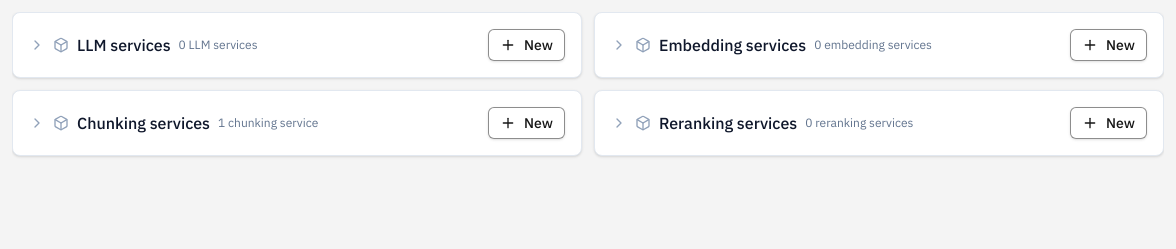
Scenario: ServicesPanel › expands the chunking subpanel and renders its rows
Click the button named "Chunking services" at point(297, 123), box [13,91,581,155]
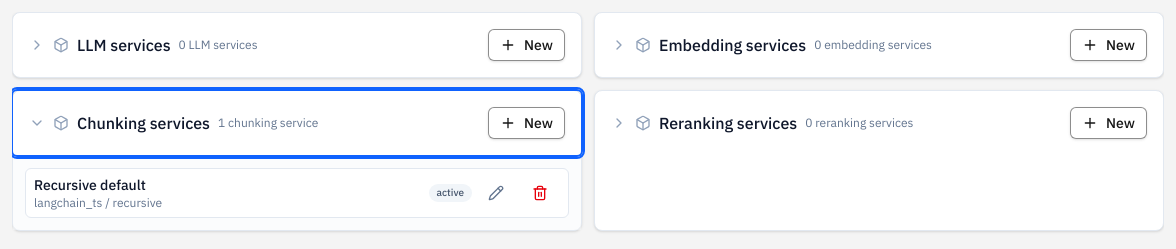
Expected: the text "Recursive default" is shown, [34,176,146,194]
Expected: the text "langchain_ts / recursive" is shown, [34,195,162,210]
